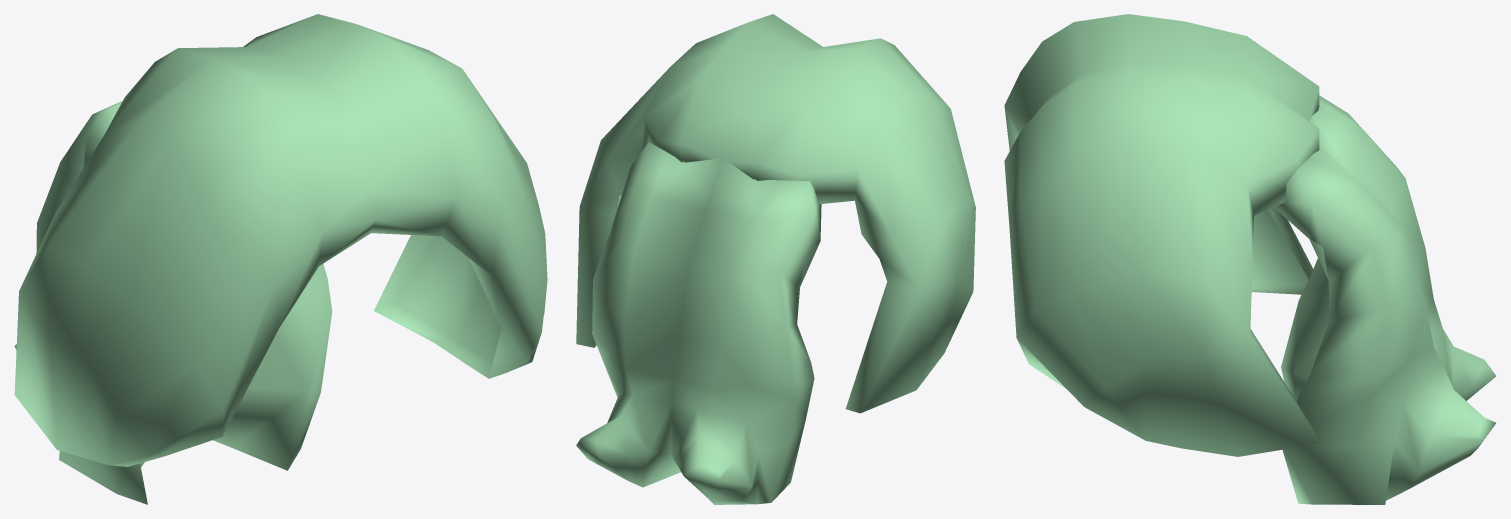
The model's file is Mane_06.fbx.
3 renders of one model, left to right at view 1: azimuth 30°, elevation 25°; view 2: azimuth 150°, elevation 25°; view 3: azimuth 270°, elevation 25°, orthographic. The views are drawn at different scales.
Parts seen in each view (by area): view 1: Mane_06; view 2: Mane_06; view 3: Mane_06.
Boxes of the visible parts, <box> form: Mane_06: <box>14,14,547,504</box>; Mane_06: <box>576,14,975,504</box>; Mane_06: <box>1004,14,1496,504</box>.
Bounding box in the file's own units: 167 × 173 × 179.
